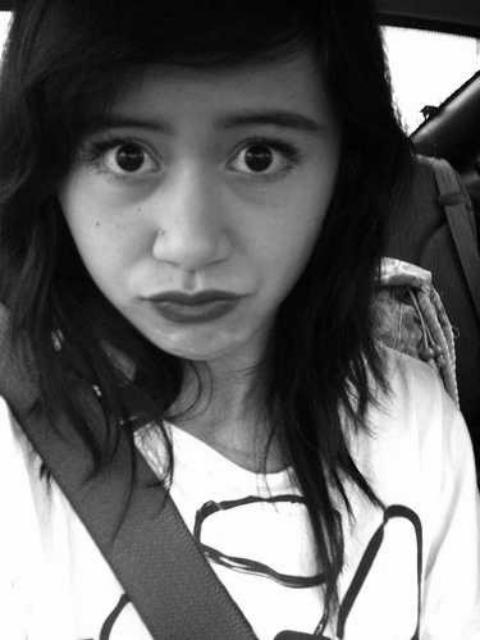SafeDriving: (210, 118, 314, 190), (76, 119, 178, 191)
Seatbelt: (0, 292, 268, 640)
